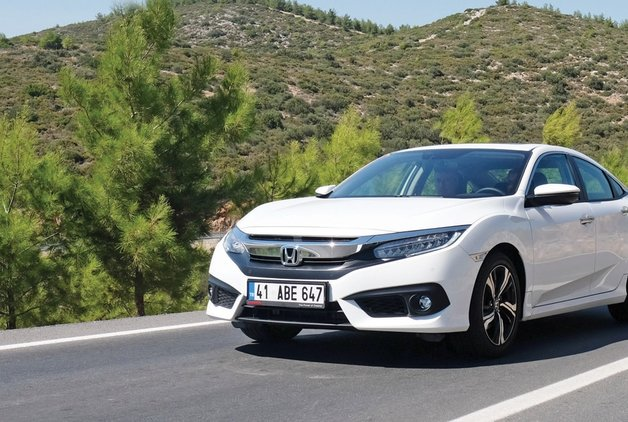araba: (207, 144, 628, 346)
